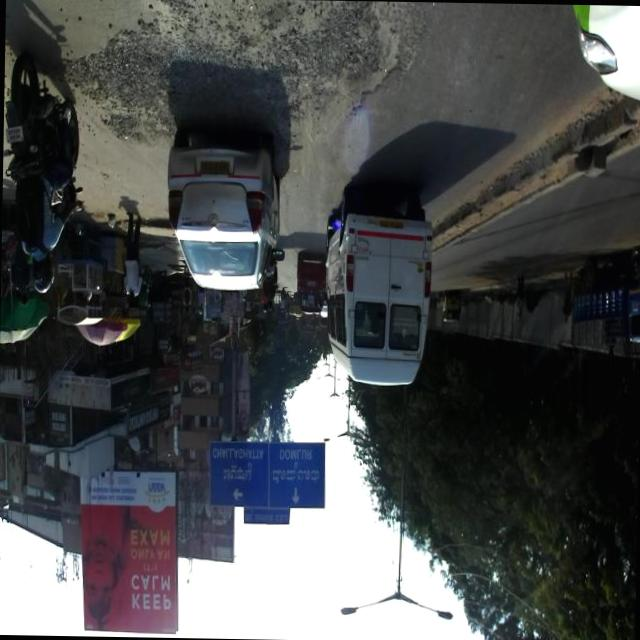pothole: (269, 0, 416, 126), (142, 0, 264, 118), (90, 41, 142, 140)
